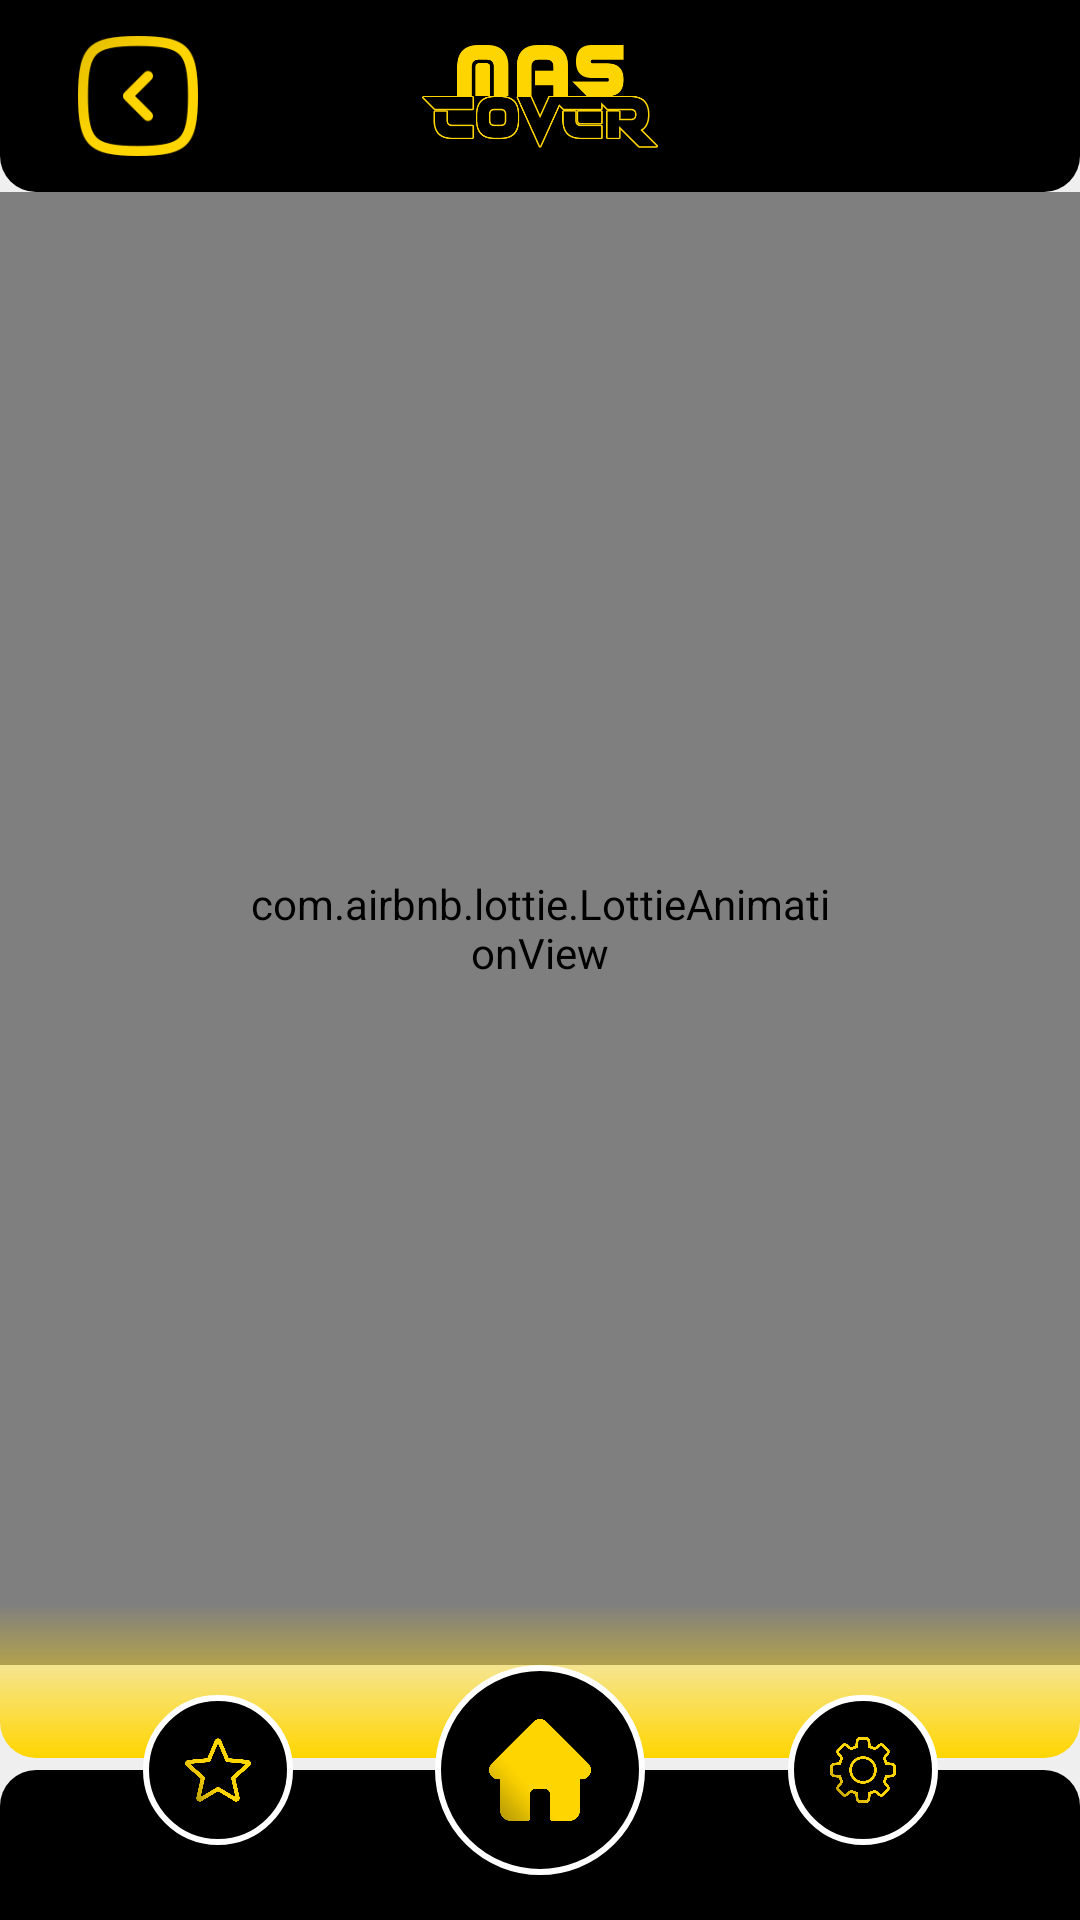

Icons on this 1080px x 1920px Android screen, each with the point to tap as [x,y]:
accueil: [540,1770]
left arrow: [138,96]
settings: [863,1770]
star: [218,1770]
